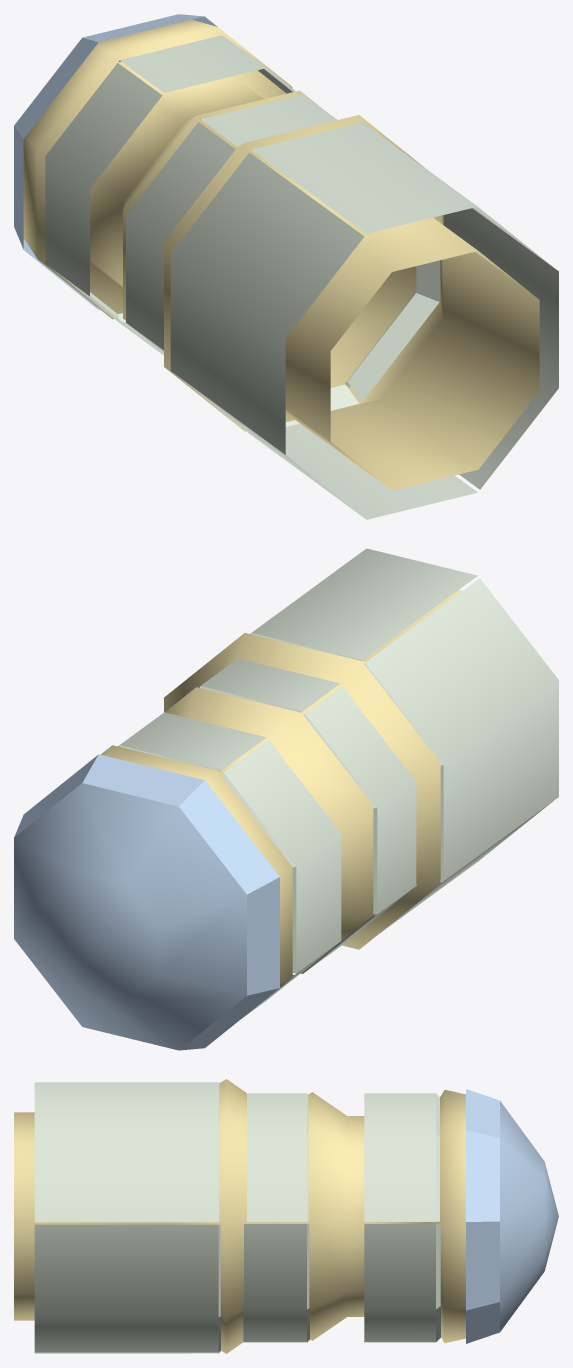
3 renders of one model, top to bottom at view 1: azimuth 30°, elevation 25°; view 2: azimuth 150°, elevation 25°; view 3: azimuth 270°, elevation 25°, orthographic. The views are drawn at different scales.
Parts seen in each view (by area): view 1: Object59; view 2: Object59; view 3: Object59.
Boxes of the visible parts, x1,y1,x2,y2 form: Object59: (14, 14, 558, 519); Object59: (14, 548, 558, 1050); Object59: (14, 1079, 558, 1353).
Bounding box in the file's own units: 27159 × 27201 × 58210.
